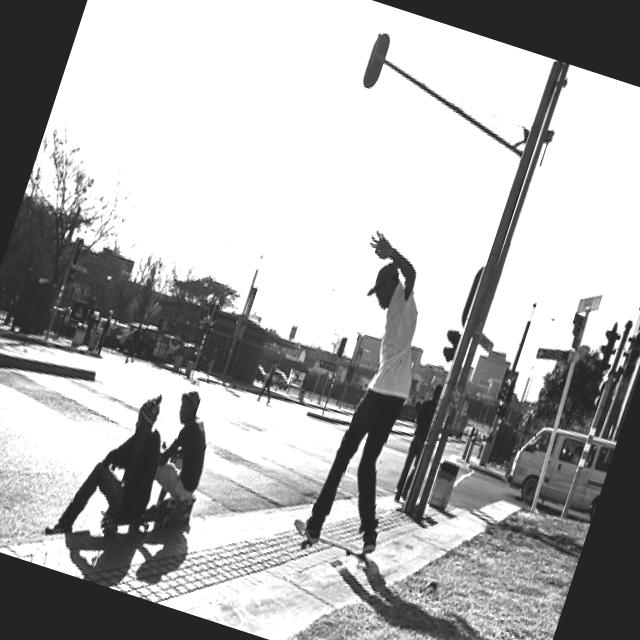Vehicle: (502, 411, 618, 526), (504, 413, 617, 524), (118, 318, 162, 362), (152, 332, 182, 364), (104, 322, 131, 353), (90, 314, 116, 340), (269, 368, 294, 393), (254, 364, 269, 382)
